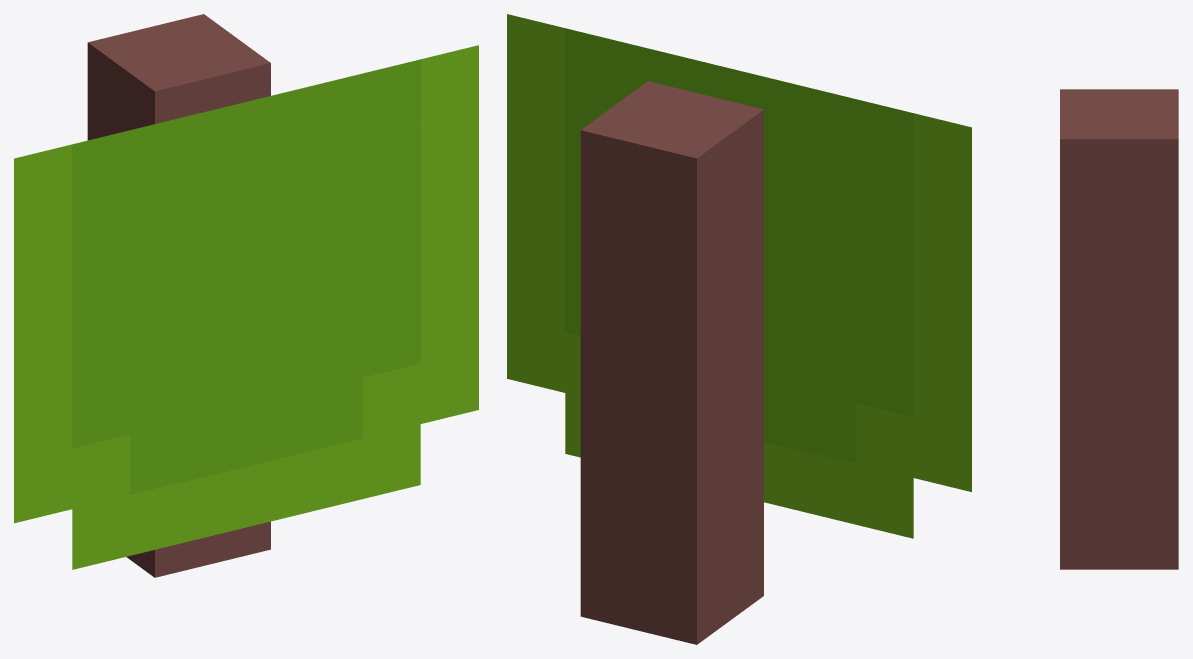
File: Lime Banner.glb
3 renders of one model, left to right at view 1: azimuth 30°, elevation 25°; view 2: azimuth 150°, elevation 25°; view 3: azimuth 270°, elevation 25°, orthographic. The views are drawn at different scales.
Visible parts, largest first — view 1: cube; view 2: cube; view 3: cube.
Part boxes in pixels (left/top/right/bottom): cube: left=14, top=14, right=478, bottom=577; cube: left=507, top=14, right=971, bottom=644; cube: left=1060, top=89, right=1178, bottom=569.
Size of the model in its own units: 1 by 1 by 0.3751.
Materials: 1 (1 with a texture image).
